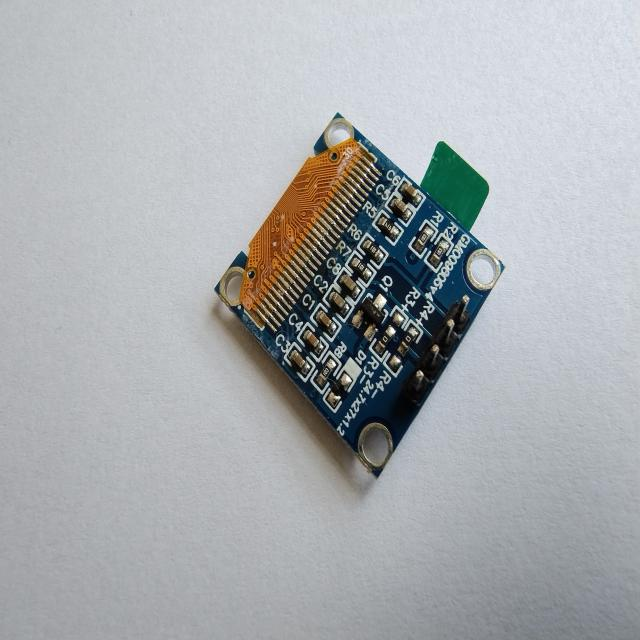oled: (214, 108, 517, 482)
